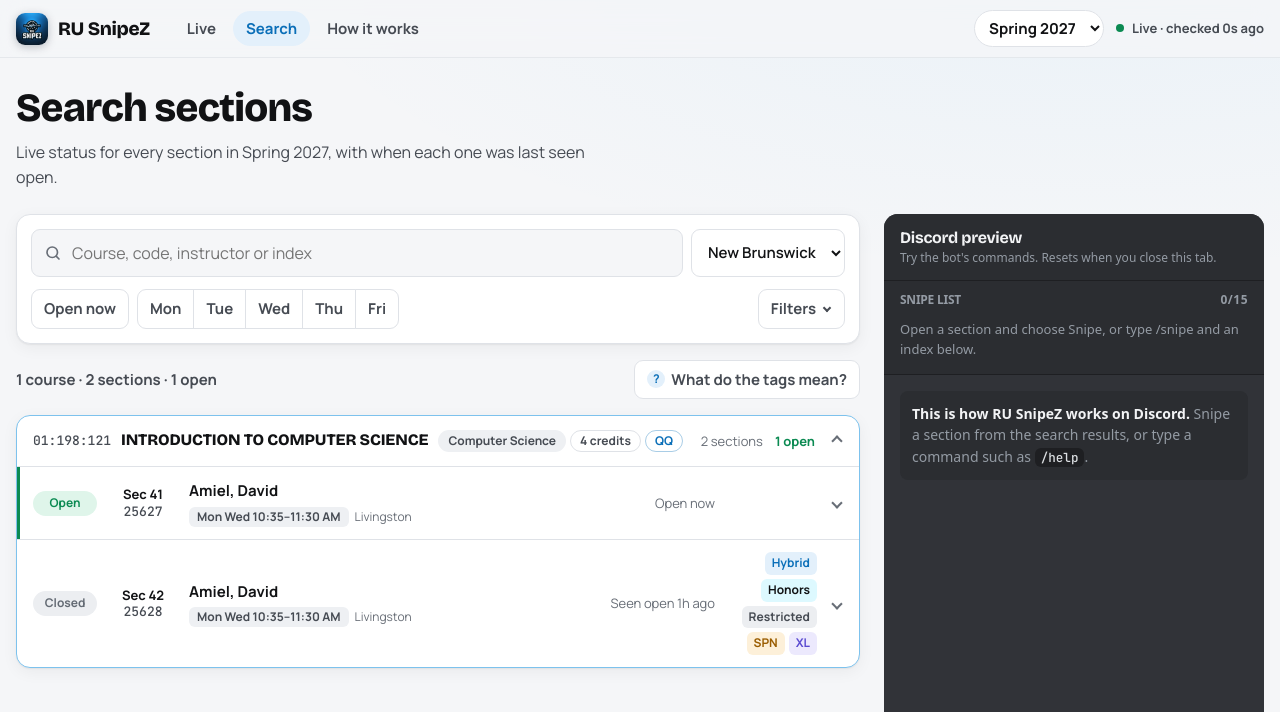
Test: search filters and details › shows every detail Rutgers gives for a section
The image size is (1280, 712).
Check: the text "Hybrid" is shown, box [765,552,817,575]
Check: the text "Honors" is shown, box [761,579,817,602]
Click the button "Sec 42": {"x": 65, "y": 604} [17,540,859,667]
(page scrolled)
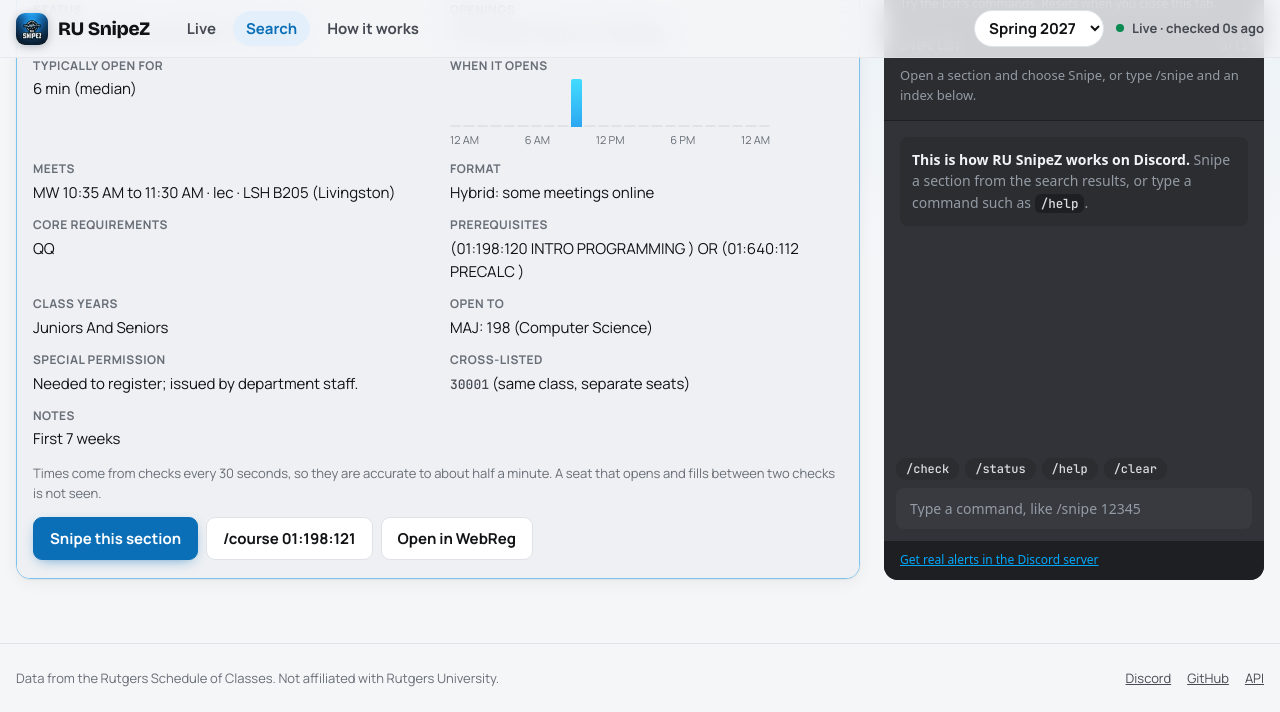
Check: the text "Hybrid: some meetings online" is shown, box [450,182,654,203]
Check: the text "Juniors And Seniors" is shown, box [33,317,168,338]
Check: the text "MAJ: 198 (Computer Science)" is shown, box [450,317,653,338]
